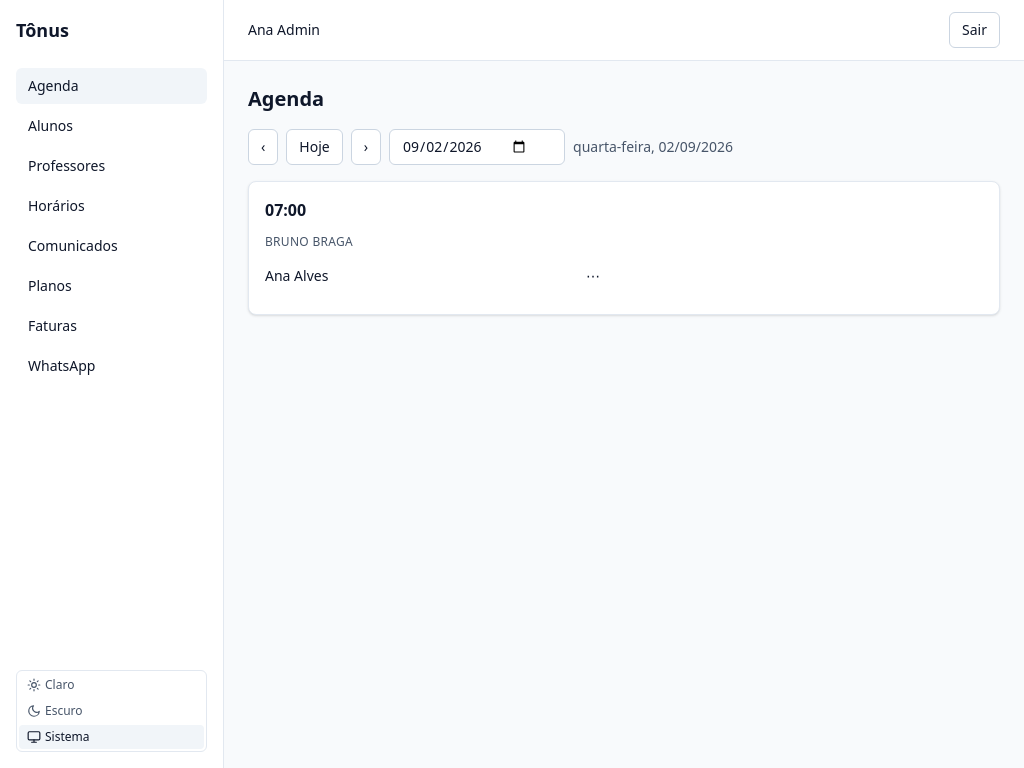
Scenario: menu de ações › oferece cancelar e remarcar numa aula do horário padrão
What coordinates should you click on to do the following:
click the button named "Ações de Ana Alves"
I would click on:
 (593, 276)
Its box is [574, 258, 612, 294].
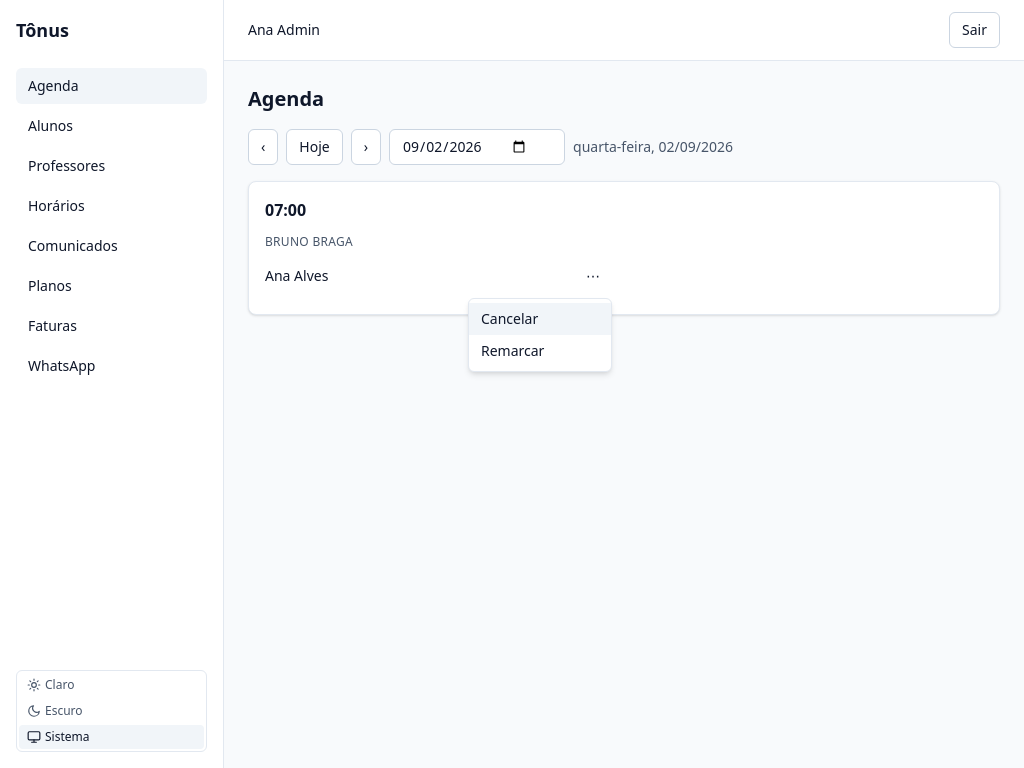
Expected: the menu items read "Cancelar", "Remarcar", in this order, [469, 303, 611, 335]; [469, 335, 611, 367]
